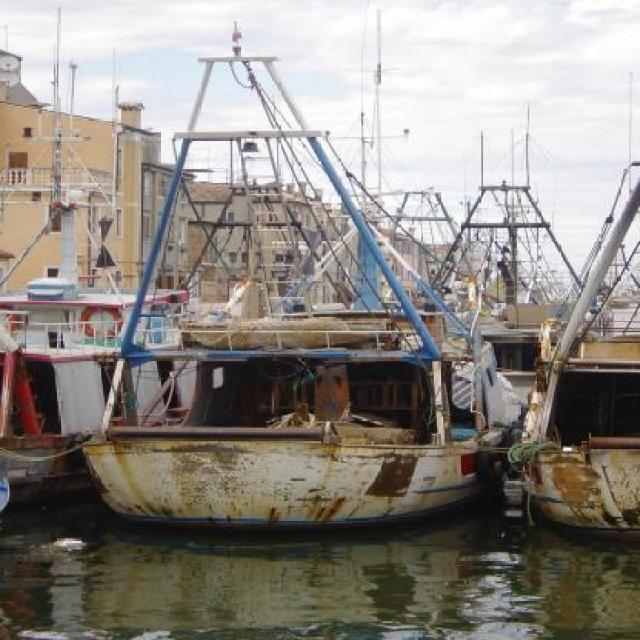corrosion: (86, 290, 640, 541)
